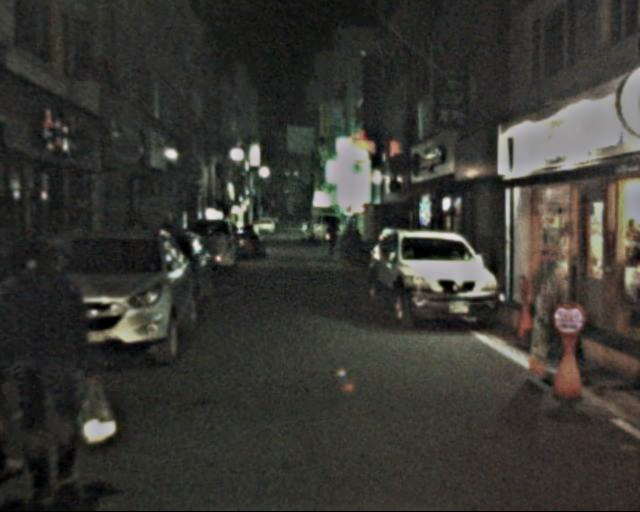person: (324, 217, 344, 260)
